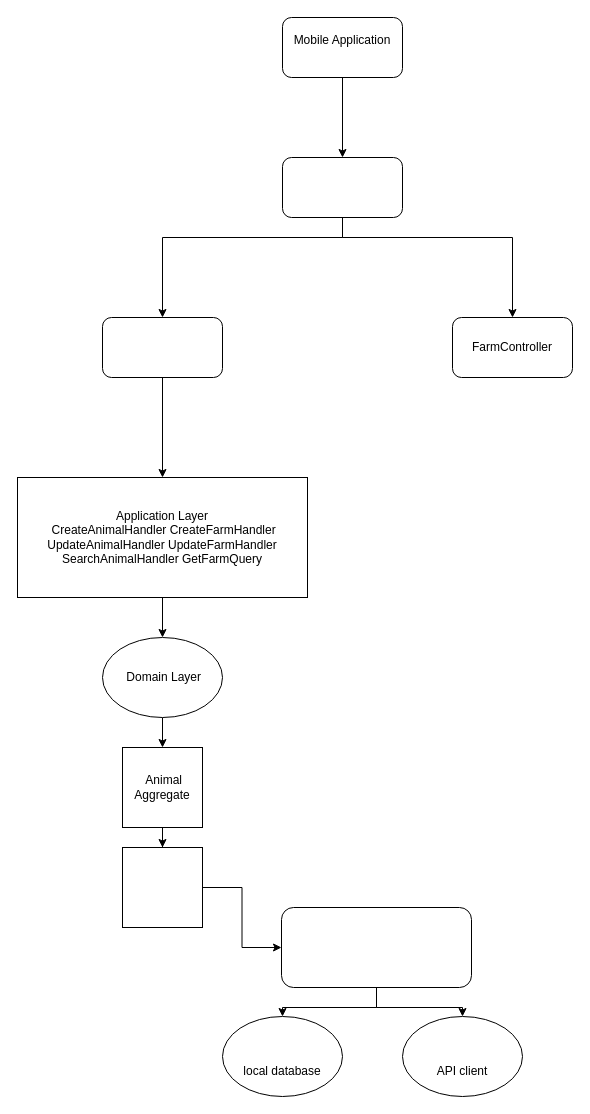
Image size: 590x1114. Some labels were removed from this diagram. The shapes that lost their labels are listed below. From the top down, each one's box as (x1, y1, x2, y2) in pixels, then its label:
(282, 156, 402, 218): Interface Layer
(102, 316, 222, 378): AnimalController
(122, 846, 202, 928): Farm Aggregate
(280, 906, 472, 988): Infrastructure Layer AnimalRepositoryImpl FarmRepositoryImpl
